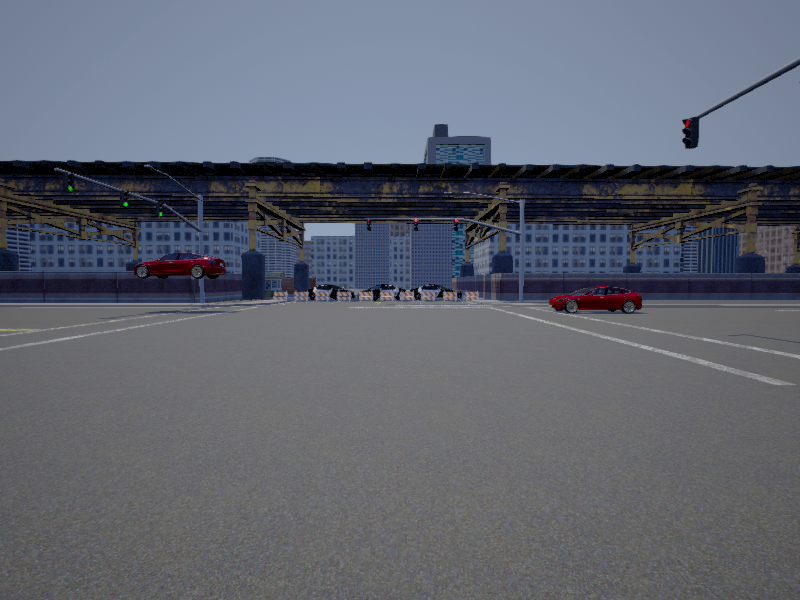Attacker: (137, 253, 224, 278)
Benign: (551, 287, 641, 313)
